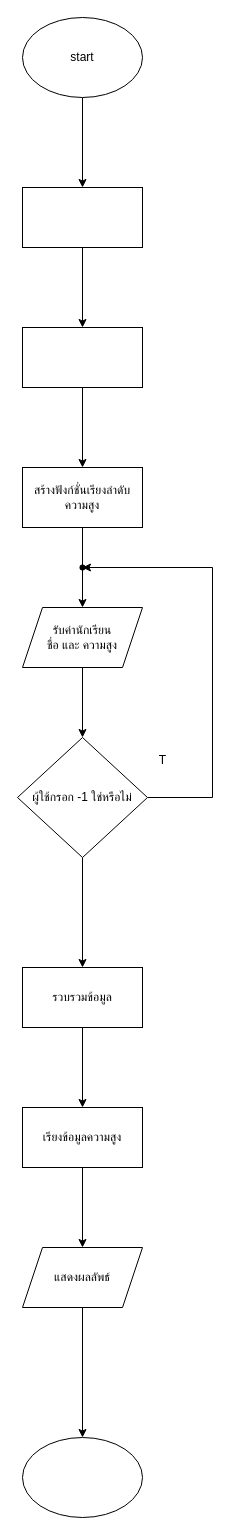
The diagram is 238 pixels wide and 1535 high, and some of its shapes have lost their labels. The shapes that lost their labels are listed below. From the top down, each one's box as (x1, y1, x2, y2) in pixels, then its label:
(22, 186, 142, 248): สร้าง struct student
(22, 326, 142, 388): สร้างฟังก์ชั่นสลับตำแหน่ง
(22, 1436, 142, 1518): end
